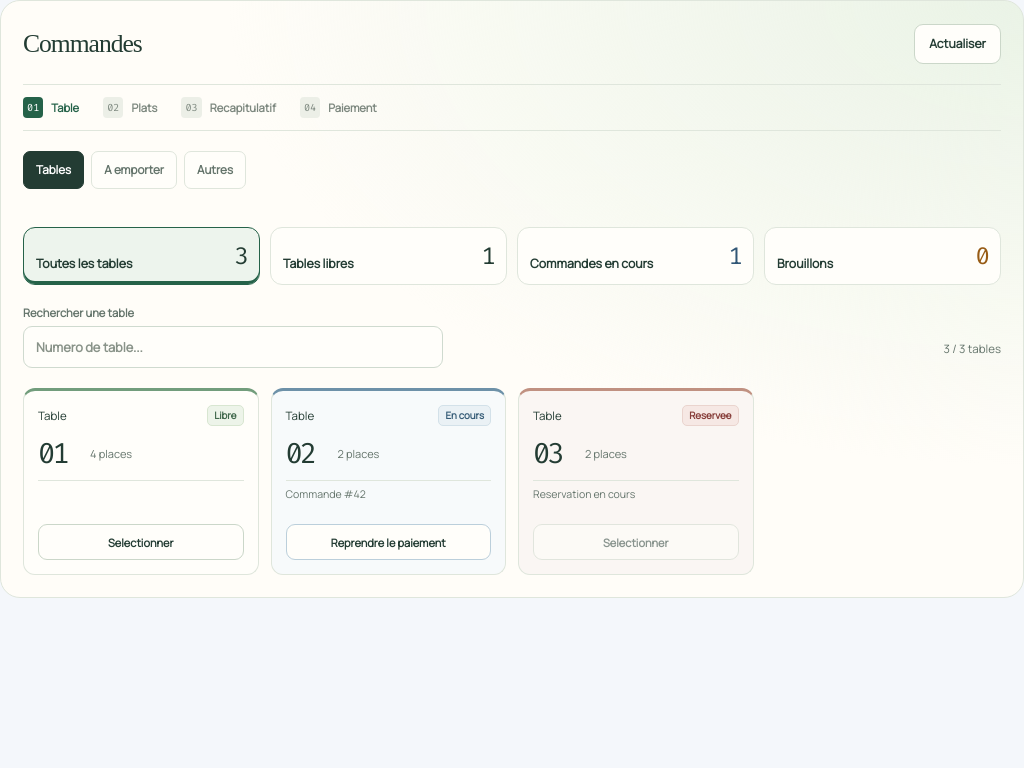
Test: loads only tables until a table is chosen
What coordinates should you click on to do the following:
click the button with aria-label "Selectionner la table 1"
I would click on:
 (141, 542)
Its box is [38,524,244,560].
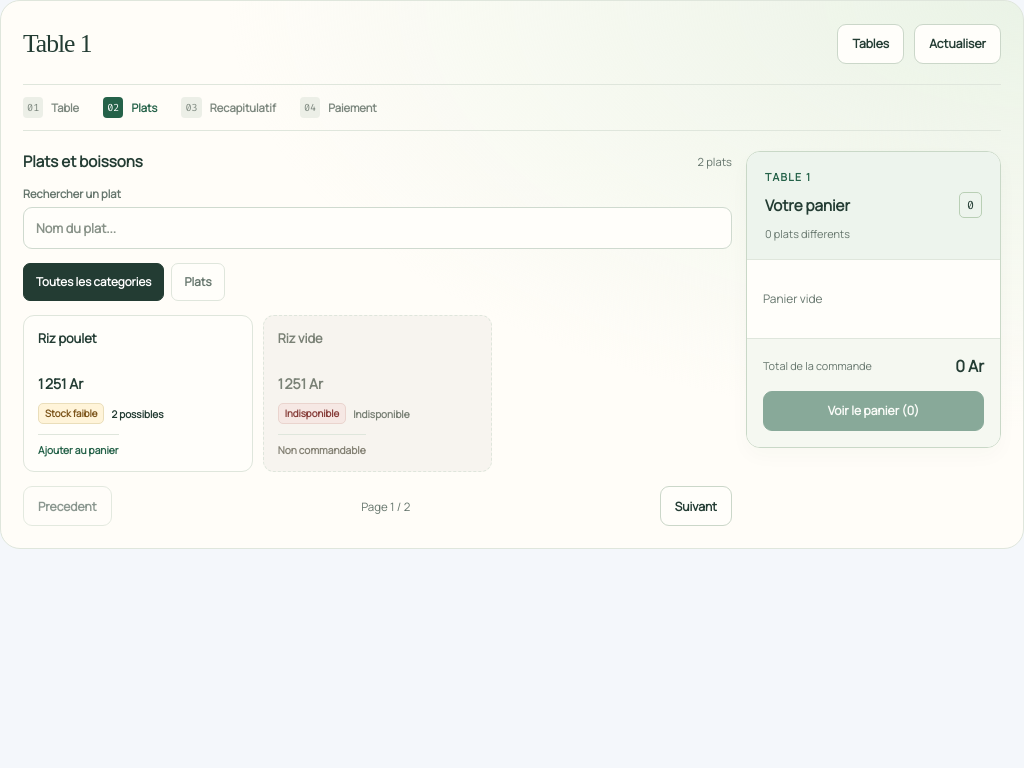
expect the button with aria-label "Ajouter Riz vide" is disabled: met, box [263,315,492,472]
